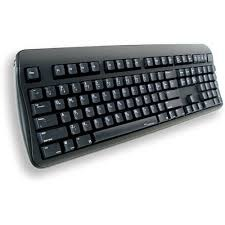keyboard: (7, 42, 222, 170)
